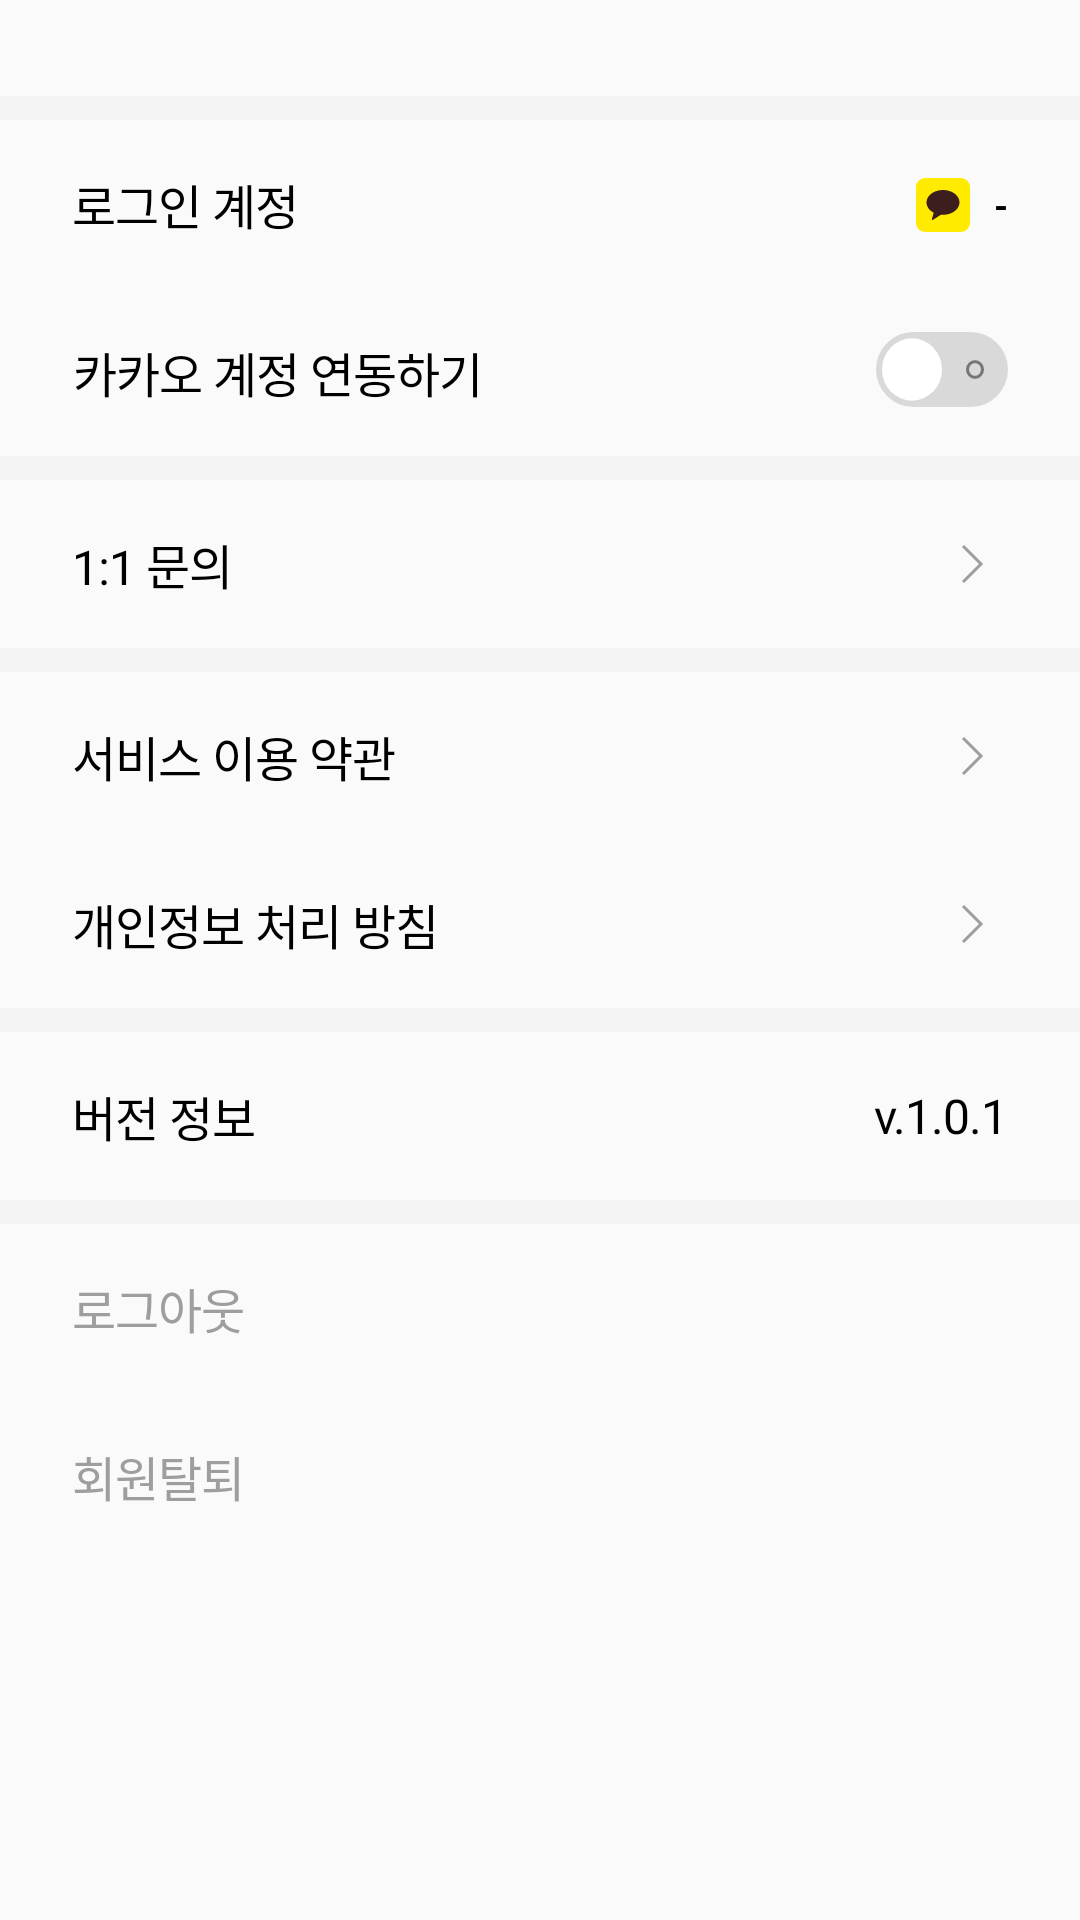

Where icons sit on this 1080w x 1920h app screen, as Rect(x1, y1, x2, y2):
setting arrow: Rect(962, 545, 983, 583), Rect(962, 737, 983, 775), Rect(962, 905, 983, 943)
setting switch: Rect(876, 332, 1008, 407)
